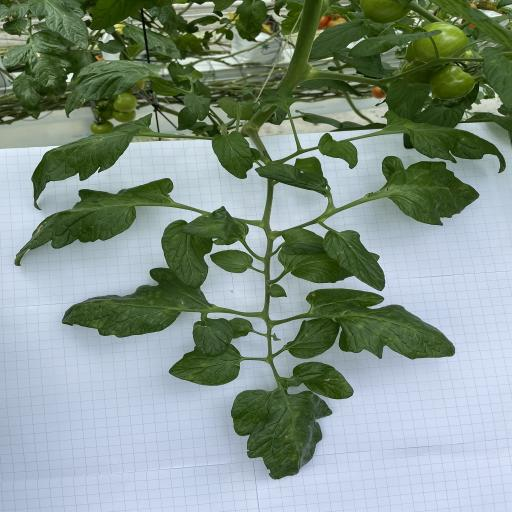Healthy: (30, 113, 154, 211), (161, 219, 214, 290), (255, 157, 330, 198), (29, 0, 89, 51), (181, 205, 250, 246), (348, 29, 442, 58), (308, 20, 370, 62), (278, 250, 354, 284), (90, 0, 173, 31), (481, 46, 512, 109), (212, 131, 252, 179), (388, 78, 430, 120), (318, 132, 359, 170), (280, 227, 324, 255), (209, 249, 253, 274), (184, 92, 212, 121)
